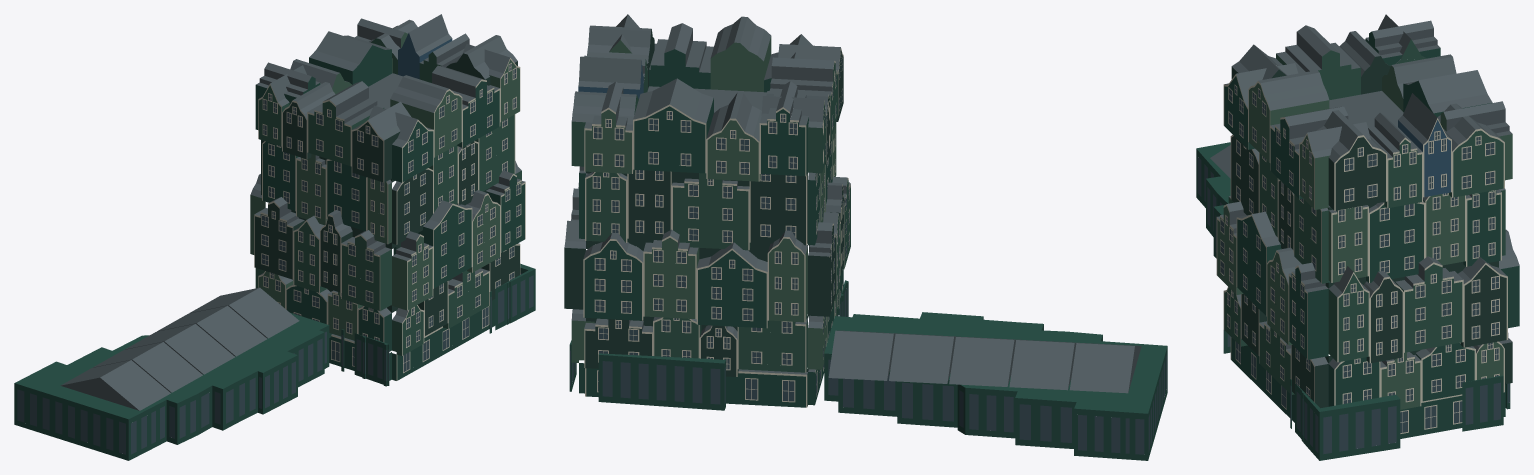
File: inntel-zaandam-near.glb
3 views of the same model, side by side, from view 1: azimuth 30°, elevation 25°; view 2: azimuth 150°, elevation 25°; view 3: azimuth 270°, elevation 25° (orthographic). The views are drawn at different scales.
Visible parts, largest first — view 1: inntel-zaandam-0-green1, inntel-zaandam-0-roof, inntel-zaandam-0-glass, inntel-zaandam-0-white, inntel-zaandam-0-green2, inntel-zaandam-0-green4, inntel-zaandam-0-green3, inntel-zaandam-0-blue; view 2: inntel-zaandam-0-green1, inntel-zaandam-0-roof, inntel-zaandam-0-glass, inntel-zaandam-0-green3, inntel-zaandam-0-white, inntel-zaandam-0-green4, inntel-zaandam-0-green2; view 3: inntel-zaandam-0-green1, inntel-zaandam-0-roof, inntel-zaandam-0-white, inntel-zaandam-0-green2, inntel-zaandam-0-glass, inntel-zaandam-0-green4, inntel-zaandam-0-green3, inntel-zaandam-0-blue.
Boxes of the visible parts, bbox=[...] form: inntel-zaandam-0-green1: bbox=[14, 45, 535, 460]; inntel-zaandam-0-roof: bbox=[60, 14, 525, 410]; inntel-zaandam-0-glass: bbox=[17, 64, 533, 454]; inntel-zaandam-0-white: bbox=[254, 58, 525, 380]; inntel-zaandam-0-green2: bbox=[255, 38, 521, 355]; inntel-zaandam-0-green4: bbox=[255, 53, 519, 335]; inntel-zaandam-0-green3: bbox=[250, 32, 519, 340]; inntel-zaandam-0-blue: bbox=[398, 33, 452, 79]; inntel-zaandam-0-green1: bbox=[569, 49, 1167, 460]; inntel-zaandam-0-roof: bbox=[564, 14, 1141, 393]; inntel-zaandam-0-glass: bbox=[570, 54, 1166, 454]; inntel-zaandam-0-green3: bbox=[571, 36, 838, 369]; inntel-zaandam-0-white: bbox=[583, 48, 850, 407]; inntel-zaandam-0-green4: bbox=[564, 29, 844, 376]; inntel-zaandam-0-green2: bbox=[571, 59, 850, 372]; inntel-zaandam-0-green1: bbox=[1196, 31, 1519, 460]; inntel-zaandam-0-roof: bbox=[1210, 14, 1519, 369]; inntel-zaandam-0-white: bbox=[1216, 74, 1507, 433]; inntel-zaandam-0-green2: bbox=[1224, 39, 1505, 394]; inntel-zaandam-0-glass: bbox=[1197, 86, 1509, 454]; inntel-zaandam-0-green4: bbox=[1231, 56, 1512, 408]; inntel-zaandam-0-green3: bbox=[1217, 65, 1512, 409]; inntel-zaandam-0-blue: bbox=[1398, 120, 1450, 196].
Bounding box in the file's own units: 76.63 × 39 × 35.95.
